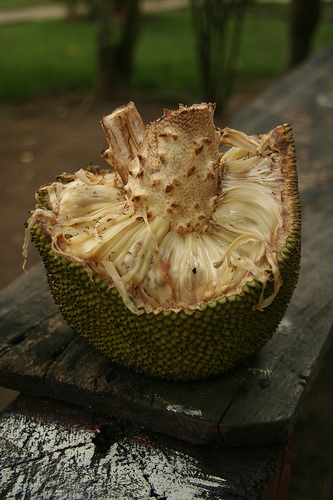jackfruit: (27, 102, 299, 378)
